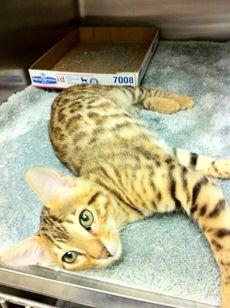bengal: (1, 159, 129, 290)
